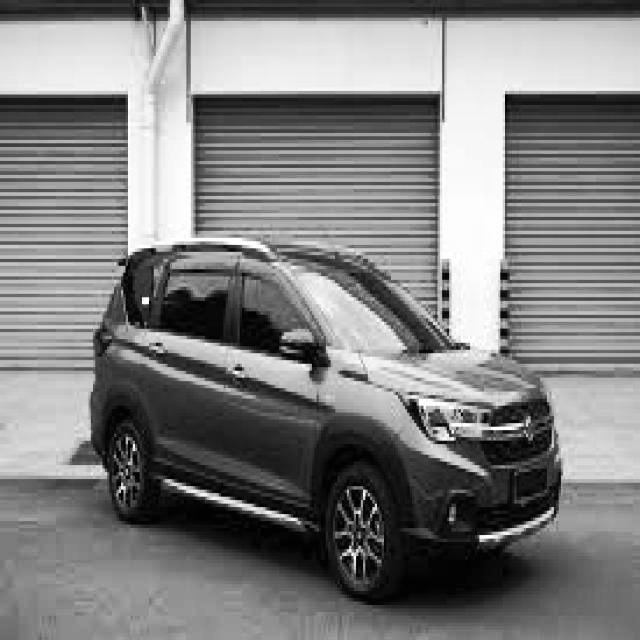Car: (79, 218, 574, 606)
